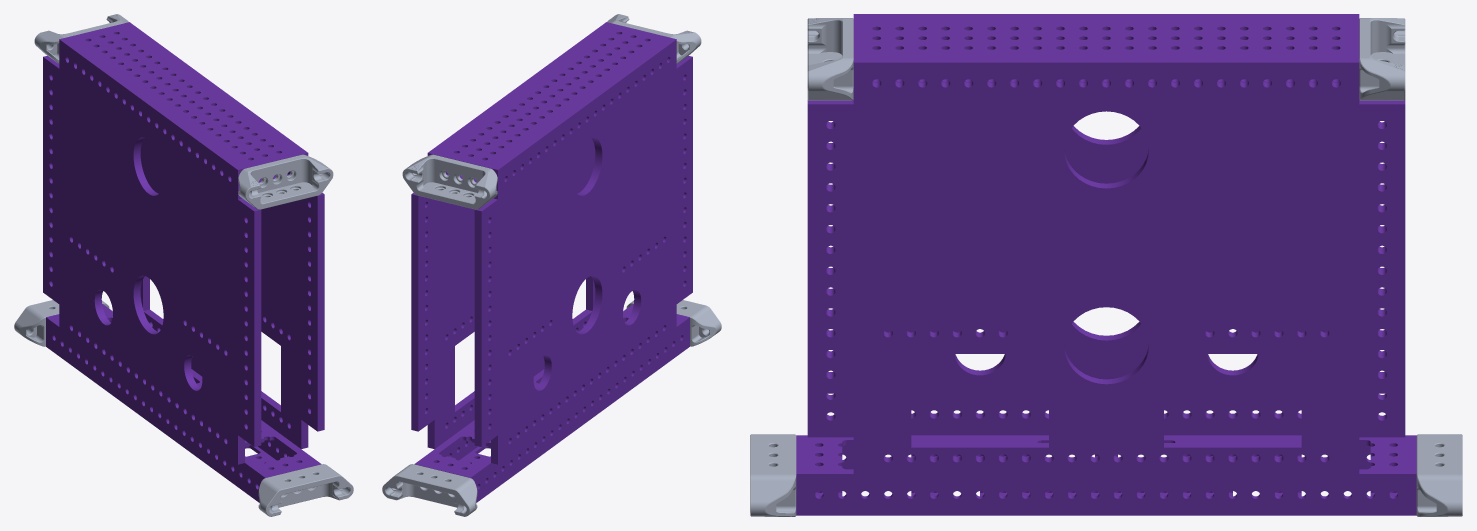
The picture shows the model from 3 angles, left to right: view 1: azimuth 30°, elevation 25°; view 2: azimuth 150°, elevation 25°; view 3: azimuth 270°, elevation 25°; orthographic projection. The views are drawn at different scales.
Visible parts, largest first — view 1: 0301 - Placa back carriage, 0301 - Placa front carriage, 0222 - perfil 11", Elevator Bearing Block Body REV4(All Parts, Short Spacers) (×4), 0203 - perfil 13" BELTS; view 2: 0301 - Placa back carriage, 0301 - Placa front carriage, 0222 - perfil 11", Elevator Bearing Block Body REV4(All Parts, Short Spacers) (×4), 0203 - perfil 13" BELTS; view 3: 0301 - Placa front carriage, 0301 - Placa back carriage, 0203 - perfil 13" BELTS, 0222 - perfil 11", Elevator Bearing Block Body REV4(All Parts, Short Spacers) (×4).
Part boxes in pixels (x1,y1,x2,y2): 0301 - Placa back carriage: (43, 37, 261, 464); 0301 - Placa front carriage: (123, 22, 324, 448); 0222 - perfil 11": (66, 24, 300, 182); Elevator Bearing Block Body REV4(All Parts, Short Spacers) (×4): (14, 14, 353, 516); 0203 - perfil 13" BELTS: (46, 303, 321, 502); 0301 - Placa back carriage: (474, 37, 692, 464); 0301 - Placa front carriage: (411, 22, 612, 448); 0222 - perfil 11": (435, 24, 669, 182); Elevator Bearing Block Body REV4(All Parts, Short Spacers) (×4): (382, 14, 721, 516); 0203 - perfil 13" BELTS: (414, 303, 689, 502); 0301 - Placa front carriage: (807, 57, 1405, 478); 0301 - Placa back carriage: (827, 14, 1385, 435); 0203 - perfil 13" BELTS: (796, 435, 1416, 515); 0222 - perfil 11": (853, 19, 1359, 82); Elevator Bearing Block Body REV4(All Parts, Short Spacers) (×4): (750, 18, 1462, 516).
Bounding box in the file's own units: 0.0795 × 0.2794 × 0.3937.
